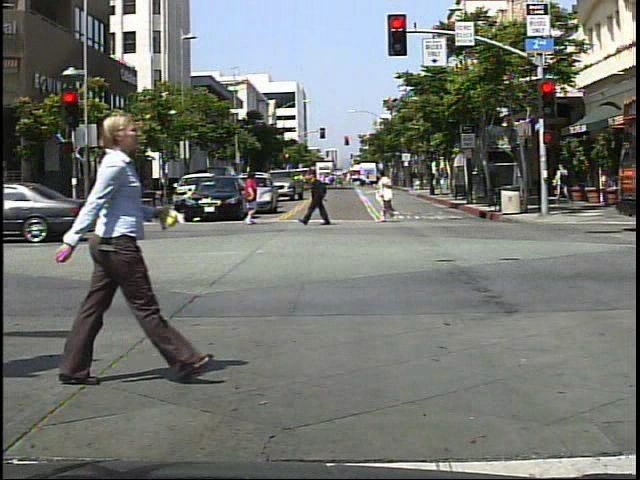person: (44, 91, 190, 402), (303, 157, 341, 232), (372, 164, 404, 228), (233, 168, 265, 227), (554, 160, 576, 203)
